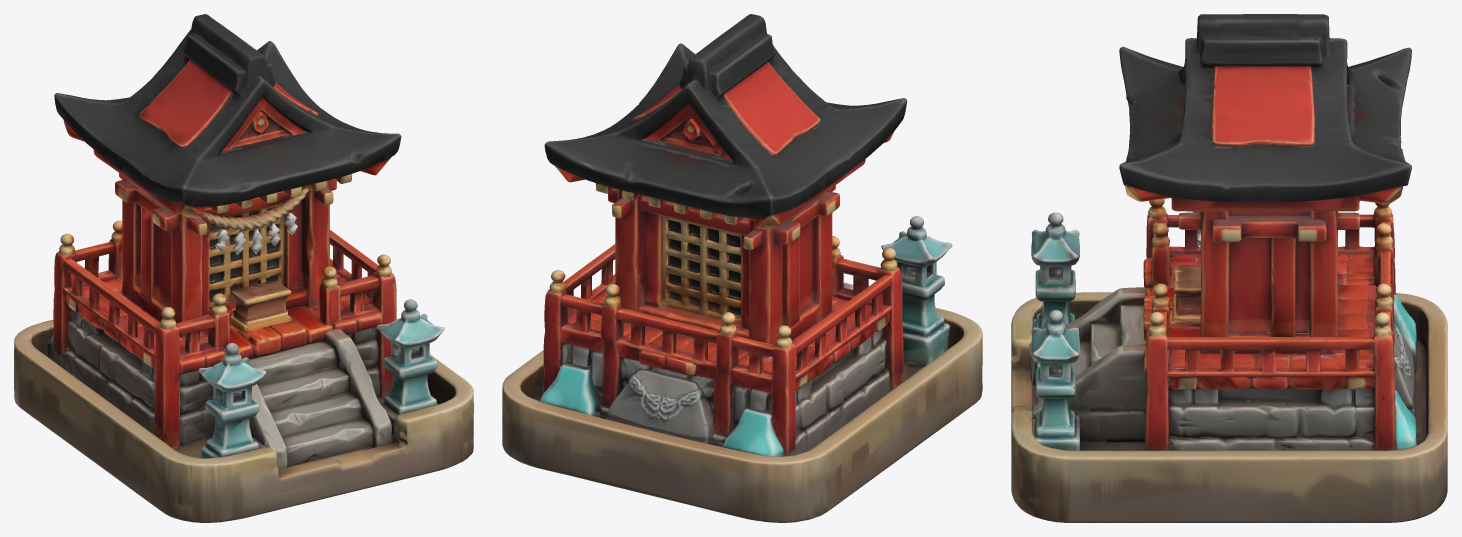
File: Shrine.glb
The picture shows the model from 3 angles, left to right: view 1: azimuth 30°, elevation 25°; view 2: azimuth 150°, elevation 25°; view 3: azimuth 270°, elevation 25°; orthographic projection. The views are drawn at different scales.
Visible parts, largest first — view 1: Shrine; view 2: Shrine; view 3: Shrine.
Part boxes in pixels (x1,y1,x2,y2): Shrine: [14, 14, 473, 522]; Shrine: [502, 14, 982, 522]; Shrine: [1011, 14, 1447, 522].
Size of the model in its own units: 1.69 by 2 by 1.86.
Materials: 1 (1 with a texture image).
